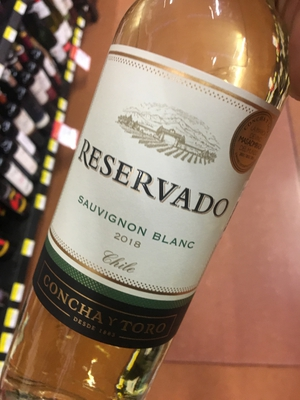reservado sauvignon blanc: (34, 17, 276, 388)
